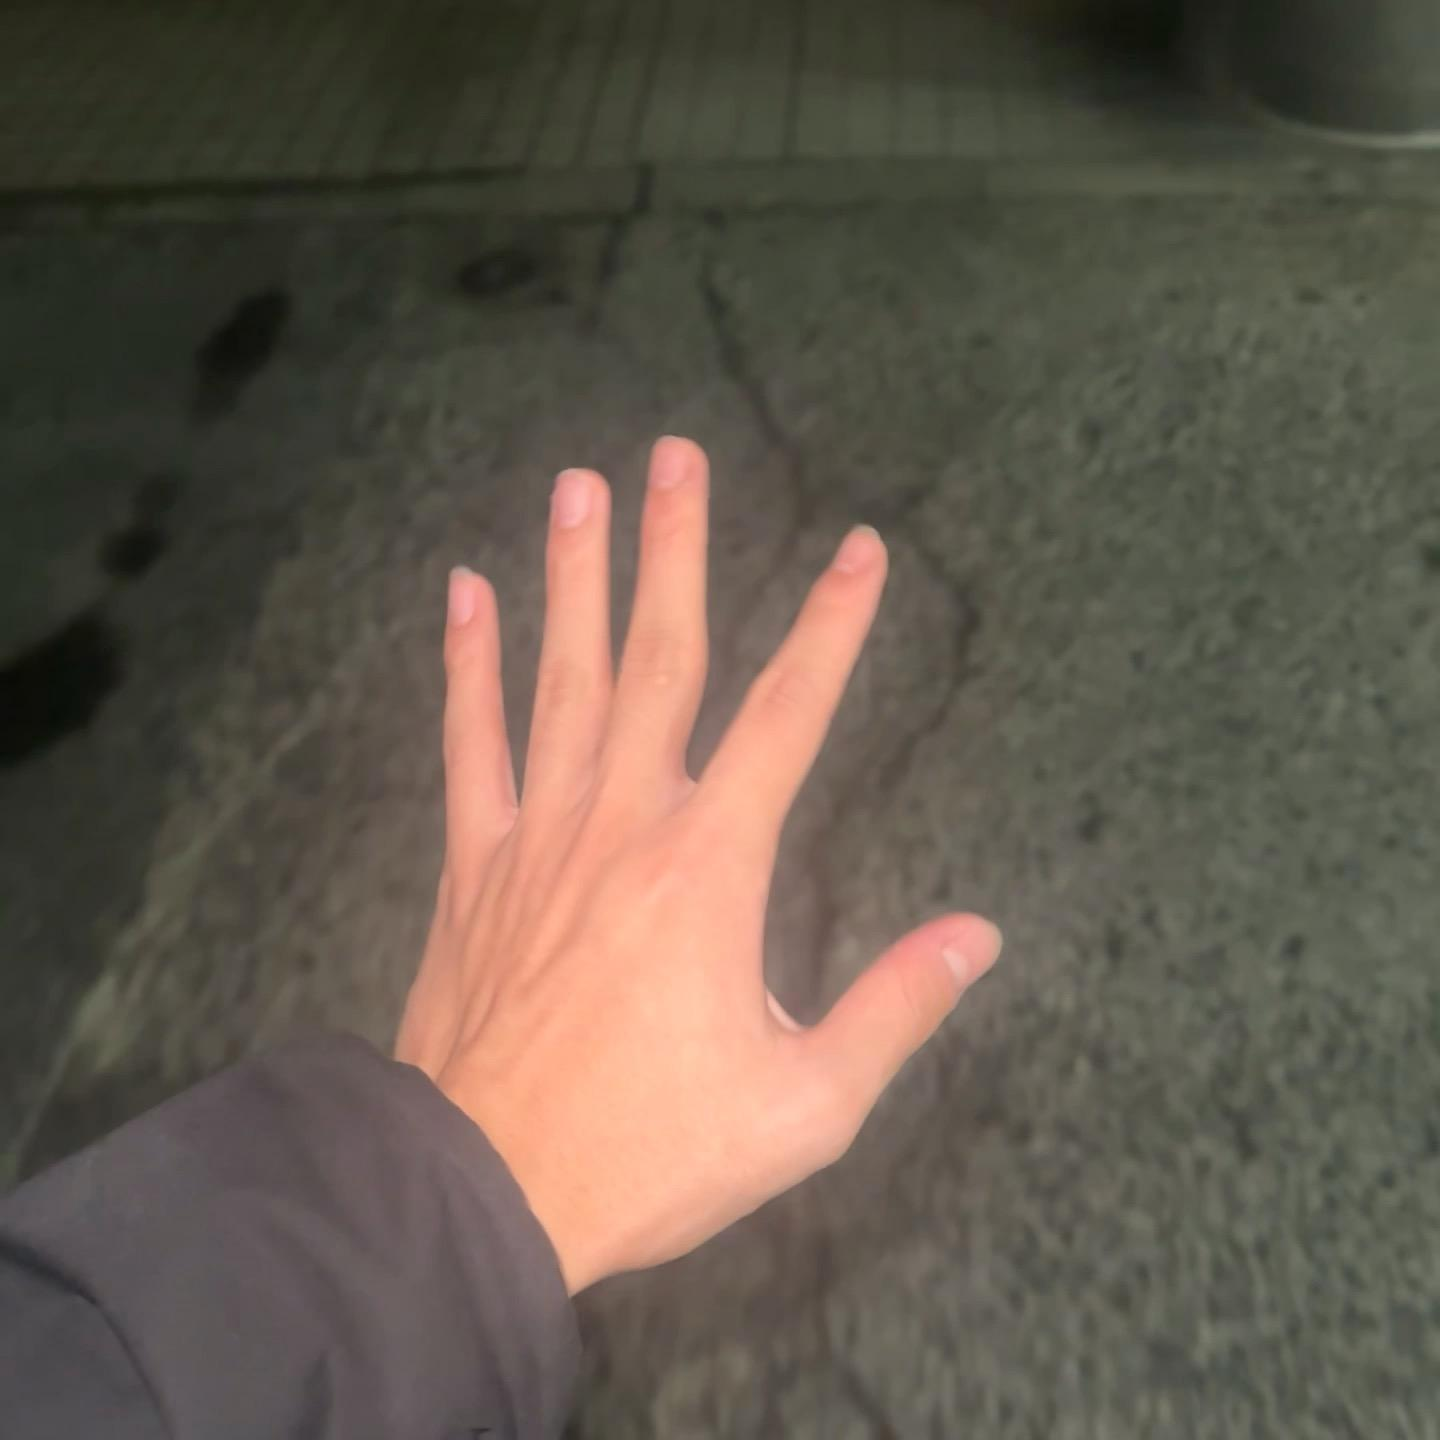without_gloves: (355, 414, 1047, 1280)
